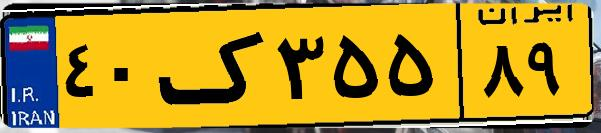0: (110, 28, 158, 98)
3: (270, 28, 330, 110)
4: (57, 26, 110, 100)
5: (385, 28, 445, 110), (330, 28, 385, 110)
8: (475, 38, 525, 113)
9: (525, 38, 570, 115)
ک: (158, 12, 270, 120)
